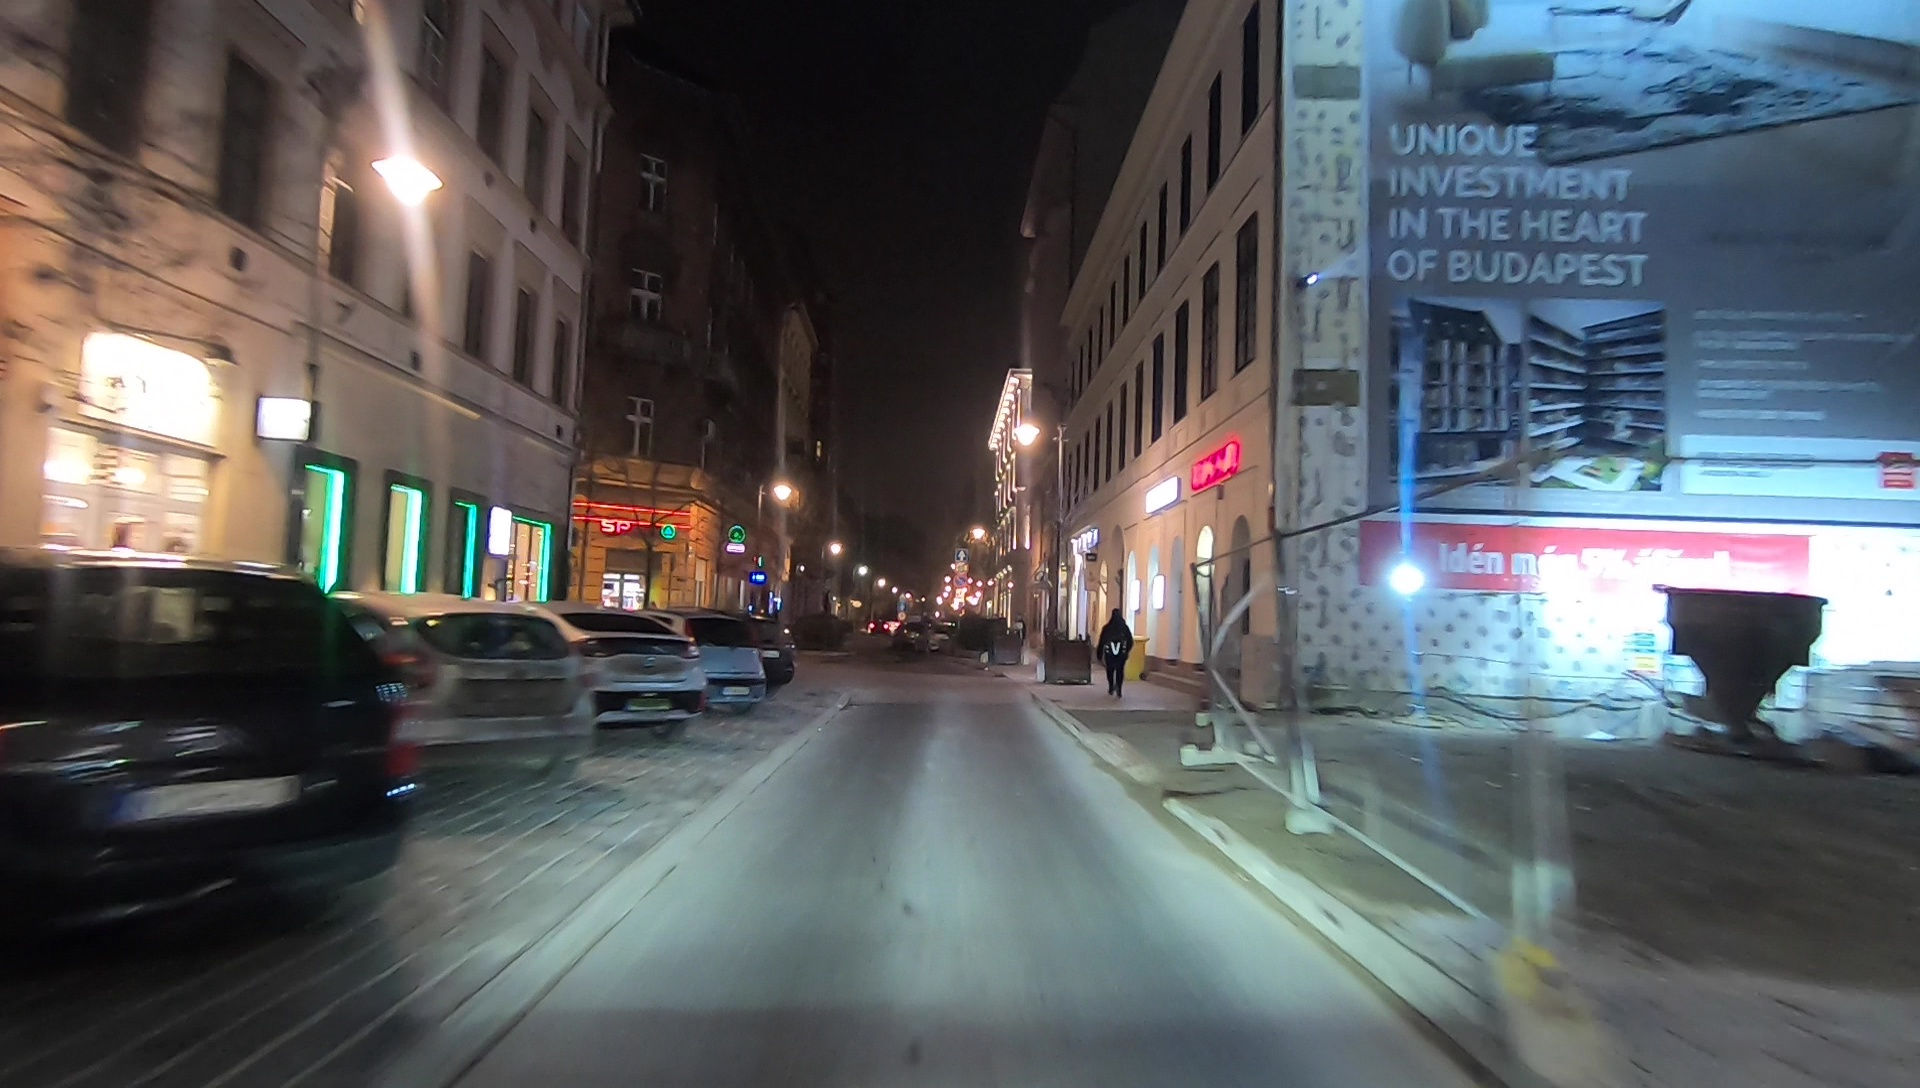person: (1095, 606, 1136, 700)
